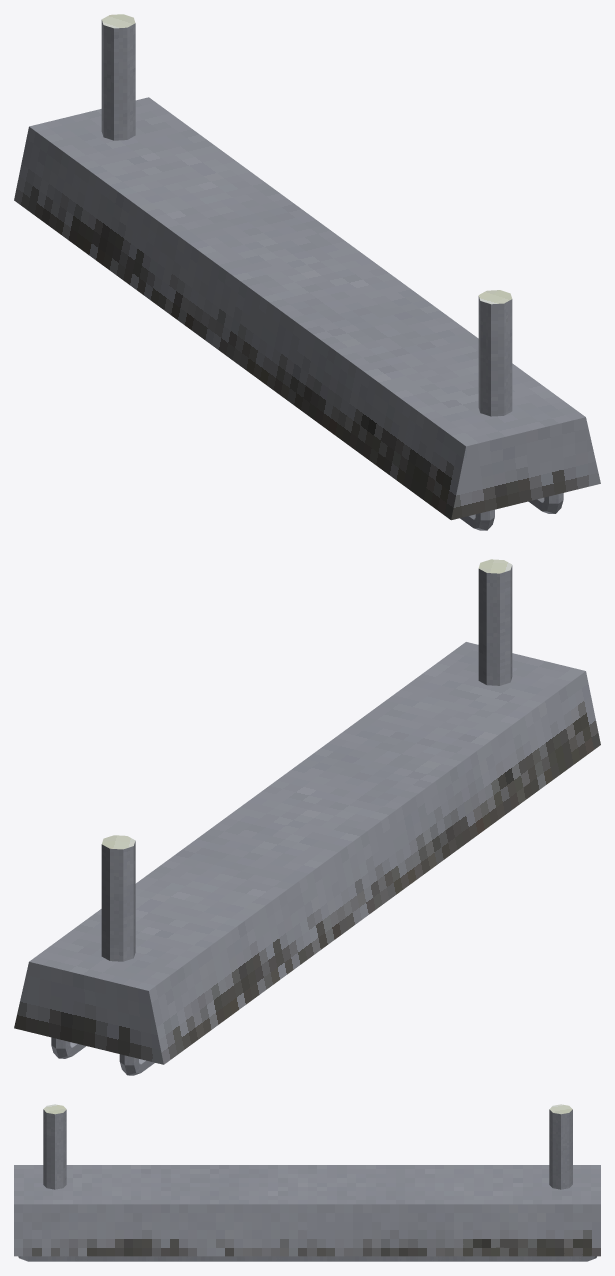
Rendered from lamp3.fbx.
3 views of the same model, one above another, from view 1: azimuth 30°, elevation 25°; view 2: azimuth 150°, elevation 25°; view 3: azimuth 270°, elevation 25° (orthographic). The views are drawn at different scales.
Parts seen in each view (by area): view 1: Cylinder.004; view 2: Cylinder.004; view 3: Cylinder.004.
Boxes of the visible parts, x1,y1,x2,y2 form: Cylinder.004: (14, 14, 600, 530); Cylinder.004: (14, 559, 600, 1075); Cylinder.004: (14, 1104, 600, 1261).
Size of the model in its own units: 19.8 by 26.56 by 100.
2 materials, 2 textured.
